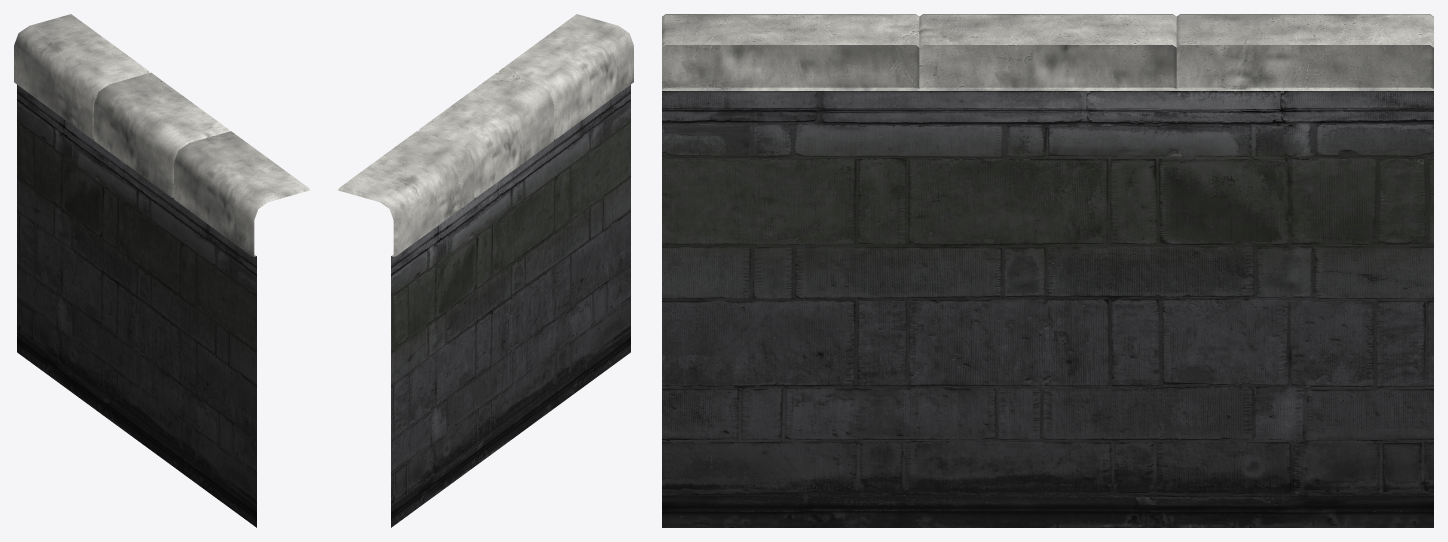
The model's file is SM_Banchina_Mod4m_v2_LOD1.fbx.
The picture shows the model from 3 angles, left to right: view 1: azimuth 30°, elevation 25°; view 2: azimuth 150°, elevation 25°; view 3: azimuth 270°, elevation 25°; orthographic projection. The views are drawn at different scales.
Parts seen in each view (by area): view 1: SM_Banchina_Mod4m_v2_LOD1; view 2: SM_Banchina_Mod4m_v2_LOD1; view 3: SM_Banchina_Mod4m_v2_LOD1.
Boxes of the visible parts, left/top/right/bottom form: SM_Banchina_Mod4m_v2_LOD1: left=14, top=14, right=309, bottom=527; SM_Banchina_Mod4m_v2_LOD1: left=338, top=14, right=633, bottom=527; SM_Banchina_Mod4m_v2_LOD1: left=662, top=14, right=1433, bottom=527.
Bounding box in the file's own units: 55 × 400 × 300.
Materials: 2 (2 with a texture image).
